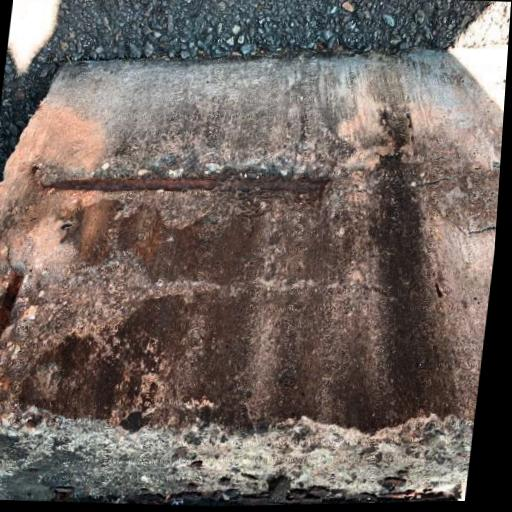exposed_rebar: (51, 178, 223, 192), (0, 272, 23, 338), (235, 180, 325, 192)
